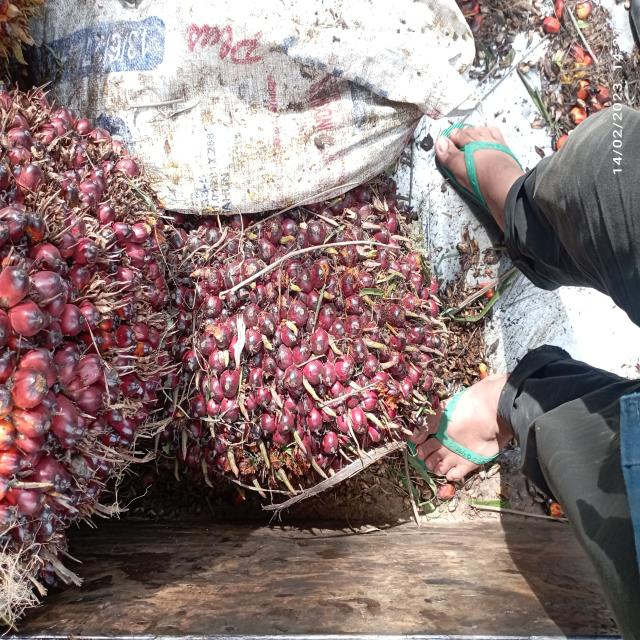fraksi 1: (155, 166, 473, 542), (0, 71, 186, 618)
